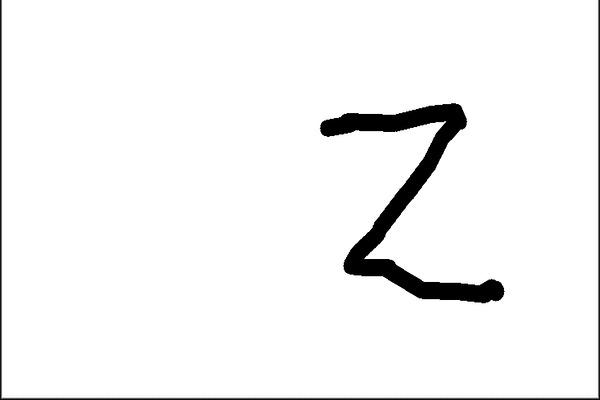Z: (313, 94, 517, 307)
